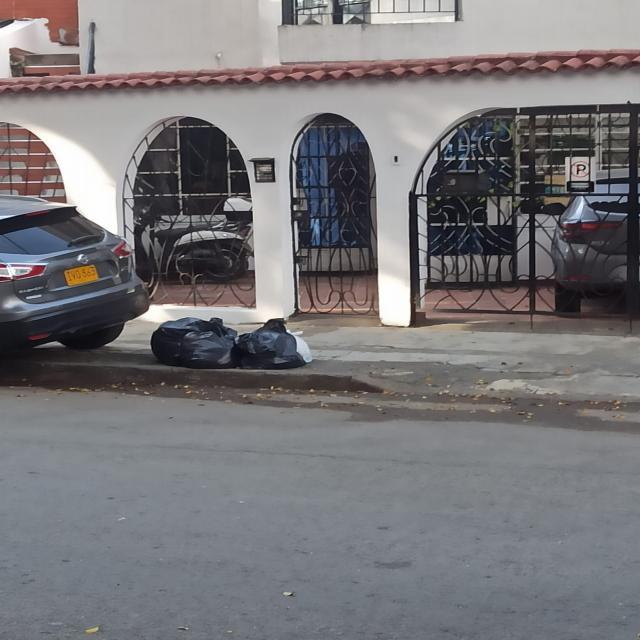Garbage_Bag: (152, 314, 235, 369), (232, 318, 306, 368)
